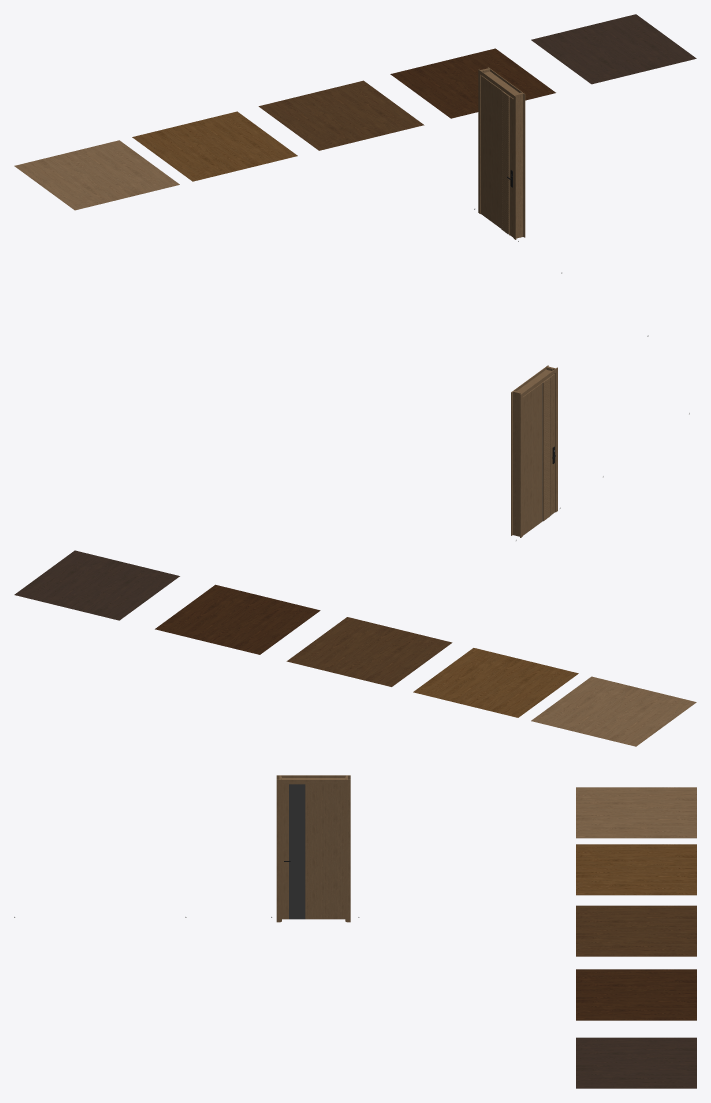
File: DOOR_V2.gltf
The picture shows the model from 3 angles, top to bottom: view 1: azimuth 30°, elevation 25°; view 2: azimuth 150°, elevation 25°; view 3: azimuth 270°, elevation 25°; orthographic projection.
Parts seen in each view (by area): view 1: Mesh_80.001, tttt.001, tttttt.001, ttttttt.001, ttttttt.002, ttt.001; view 2: Mesh_80.001, tttt.001, ttttttt.002, ttt.001, tttttt.001, ttttttt.001; view 3: Mesh_80.001, tttttt.001, ttttttt.001, tttt.001, ttt.001, ttttttt.002.
Part boxes in pixels (x1=…): Mesh_80.001: x1=478, y1=67, x2=525, y2=239; tttt.001: x1=531, y1=14, x2=696, y2=84; tttttt.001: x1=258, y1=80, x2=424, y2=150; ttttttt.001: x1=132, y1=111, x2=297, y2=181; ttttttt.002: x1=14, y1=140, x2=179, y2=210; ttt.001: x1=390, y1=48, x2=555, y2=118; Mesh_80.001: x1=511, y1=365, x2=557, y2=537; tttt.001: x1=14, y1=550, x2=179, y2=620; ttttttt.002: x1=531, y1=676, x2=696, y2=746; ttt.001: x1=155, y1=584, x2=320, y2=654; tttttt.001: x1=286, y1=617, x2=452, y2=686; ttttttt.001: x1=413, y1=648, x2=578, y2=717; Mesh_80.001: x1=276, y1=775, x2=350, y2=922; tttttt.001: x1=576, y1=905, x2=696, y2=956; ttttttt.001: x1=576, y1=844, x2=696, y2=895; tttt.001: x1=576, y1=1037, x2=696, y2=1088; ttt.001: x1=576, y1=969, x2=696, y2=1020; ttttttt.002: x1=576, y1=787, x2=696, y2=838.
Bounding box in the file's own units: 11.8 × 2.78 × 11.3.
